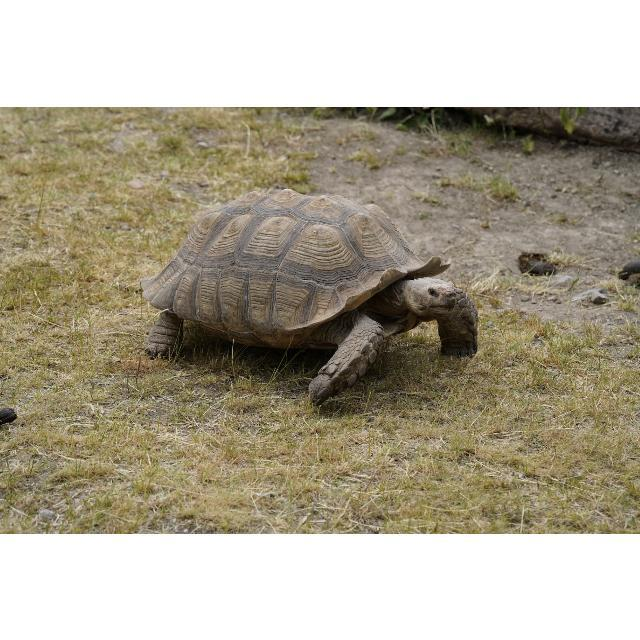turtle: (140, 189, 478, 407)
